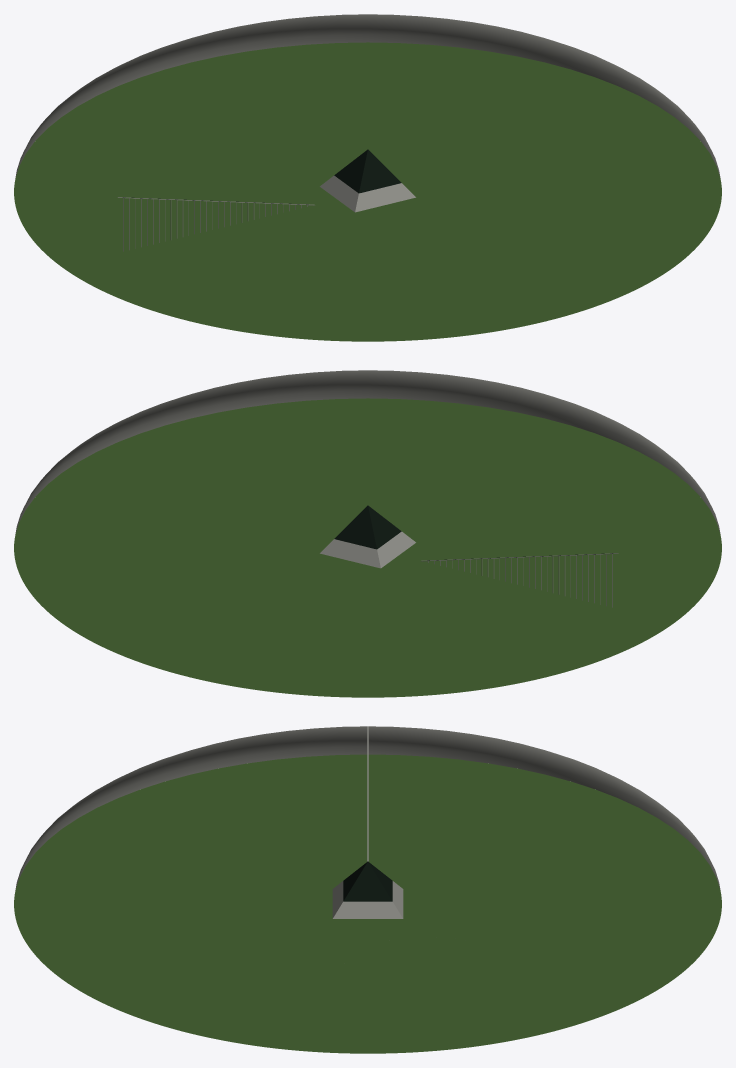
File: z3-cavern.glb
3 renders of one model, top to bottom at view 1: azimuth 30°, elevation 25°; view 2: azimuth 150°, elevation 25°; view 3: azimuth 270°, elevation 25°, orthographic.
Parts seen in each view (by area): view 1: COL_cavern_floor, GEO_cavern_floor, GEO_cavern_dome, lower, upper, GEO_viaduct; view 2: COL_cavern_floor, GEO_cavern_floor, GEO_cavern_dome, lower, upper, GEO_viaduct; view 3: GEO_cavern_floor, COL_cavern_floor, GEO_cavern_dome, lower, upper.
Part boxes in pixels (<box>): COL_cavern_floor: <box>14,42,721,341</box>; GEO_cavern_floor: <box>14,42,721,341</box>; GEO_cavern_dome: <box>15,14,720,178</box>; lower: <box>320,175,415,212</box>; upper: <box>334,149,401,193</box>; GEO_viaduct: <box>117,197,307,251</box>; COL_cavern_floor: <box>14,398,721,697</box>; GEO_cavern_floor: <box>14,398,721,697</box>; GEO_cavern_dome: <box>15,370,720,534</box>; lower: <box>320,531,415,568</box>; upper: <box>334,505,401,549</box>; GEO_viaduct: <box>428,553,618,607</box>; GEO_cavern_floor: <box>14,754,721,1053</box>; COL_cavern_floor: <box>14,755,721,1053</box>; GEO_cavern_dome: <box>15,726,720,890</box>; lower: <box>332,881,403,918</box>; upper: <box>343,861,392,901</box>.
Size of the model in its own units: 6000 by 902 by 6000.
